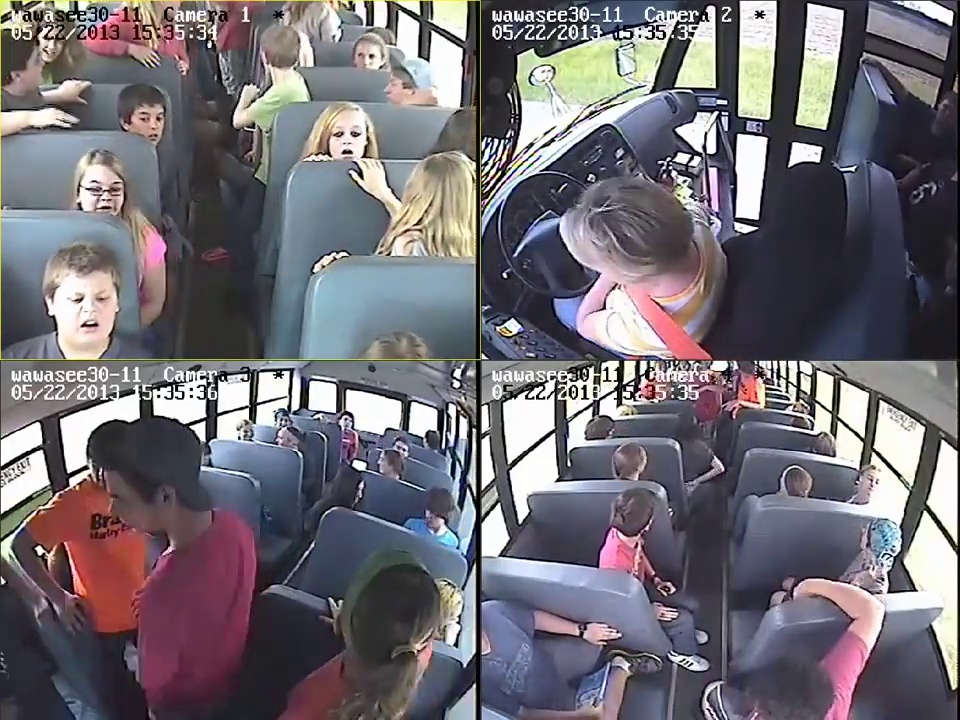face: (60, 283, 113, 338), (325, 113, 369, 157), (75, 168, 108, 217), (134, 99, 168, 138), (354, 39, 380, 69)
